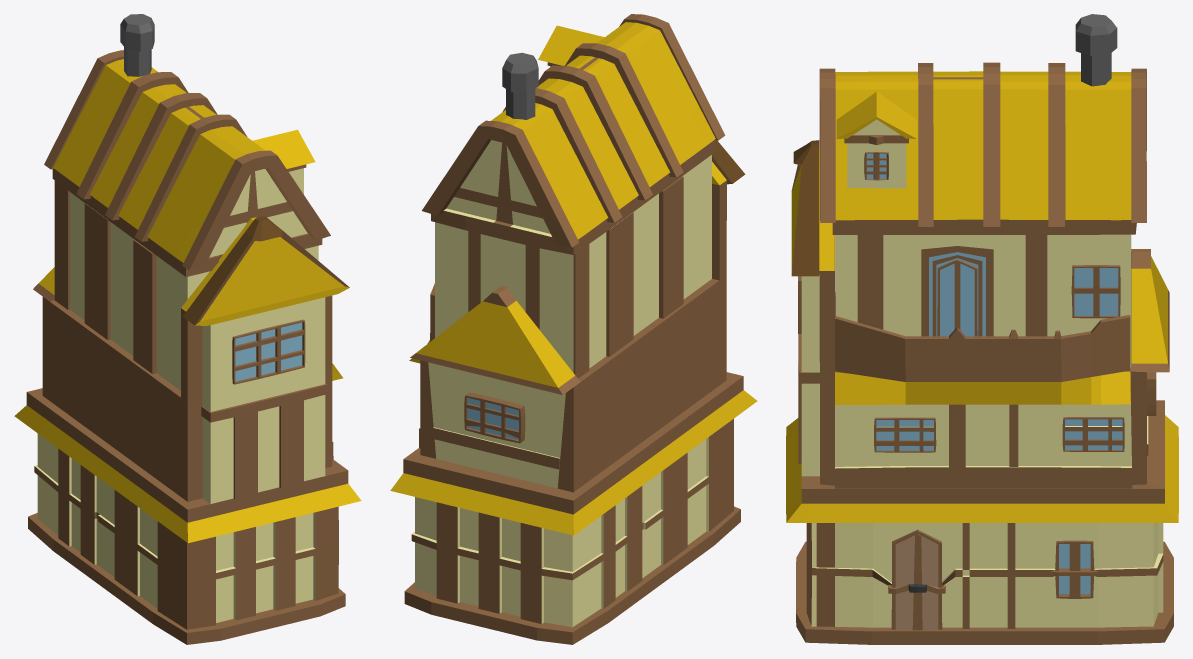
Rendered from Building_LV4_Shop_Yellow.fbx.
3 views of the same model, side by side, from view 1: azimuth 30°, elevation 25°; view 2: azimuth 150°, elevation 25°; view 3: azimuth 270°, elevation 25° (orthographic). The views are drawn at different scales.
Visible parts, largest first — view 1: LV4_Yellow; view 2: LV4_Yellow; view 3: LV4_Yellow.
Boxes of the visible parts, left/top/right/bottom form: LV4_Yellow: left=14, top=14, right=361, bottom=644; LV4_Yellow: left=390, top=14, right=757, bottom=644; LV4_Yellow: left=786, top=14, right=1178, bottom=644.
Size of the model in its own units: 220 by 609 by 375.
Materials: 1 (1 with a texture image).
